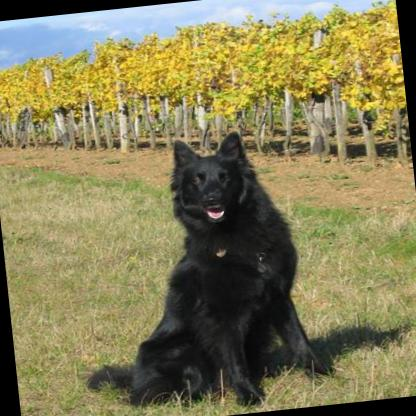groenendael: (55, 122, 333, 416)
